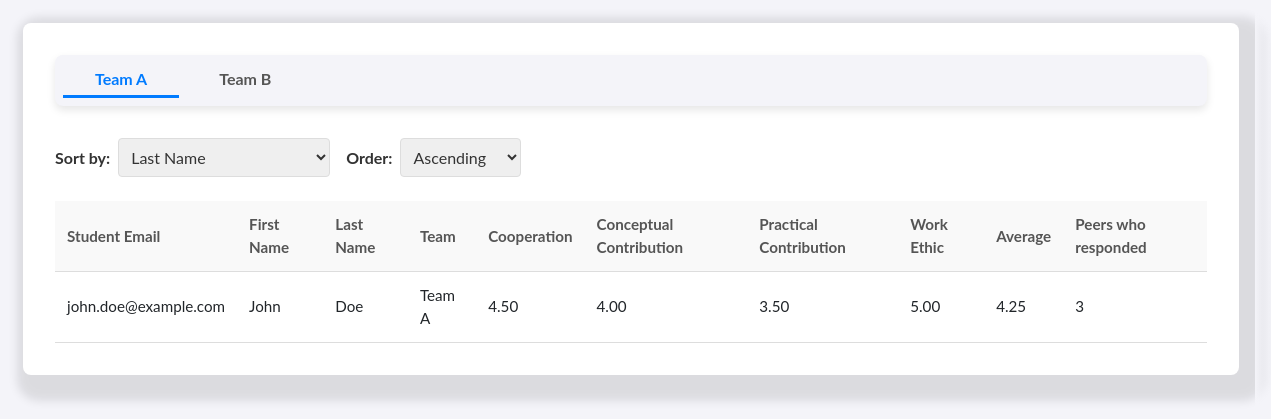
Test case: SummaryView Component › renders tabs for each unique team and switches between them
Expected: the button "Team A" is shown, [63,63,179,98]
Click the button "Team B". click: [245, 81]
box: [187,63,303,98]
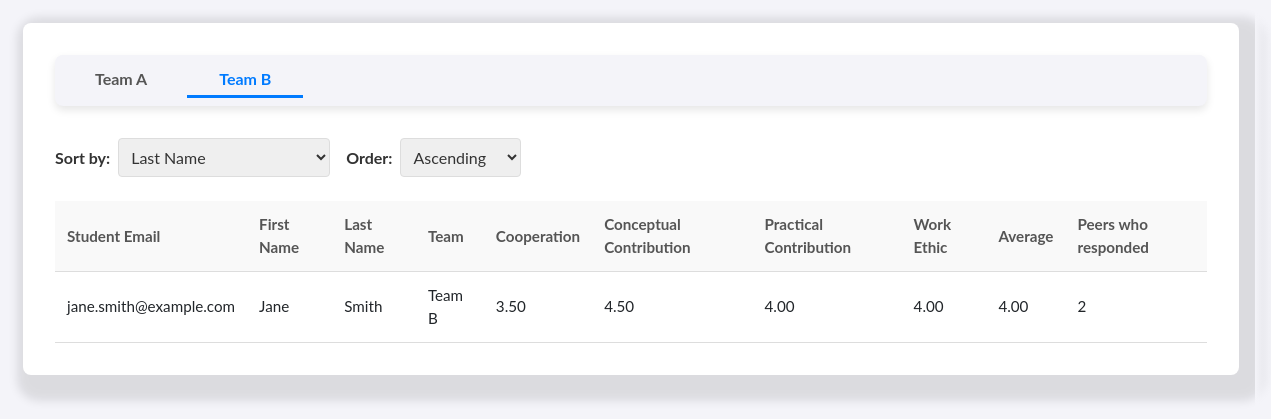
Now the text "jane.smith@example.com" is shown, box [55,272,247,342]
Now the text "Jane" is shown, box [247,272,332,342]
Now the text "Smith" is shown, box [332,272,416,342]
